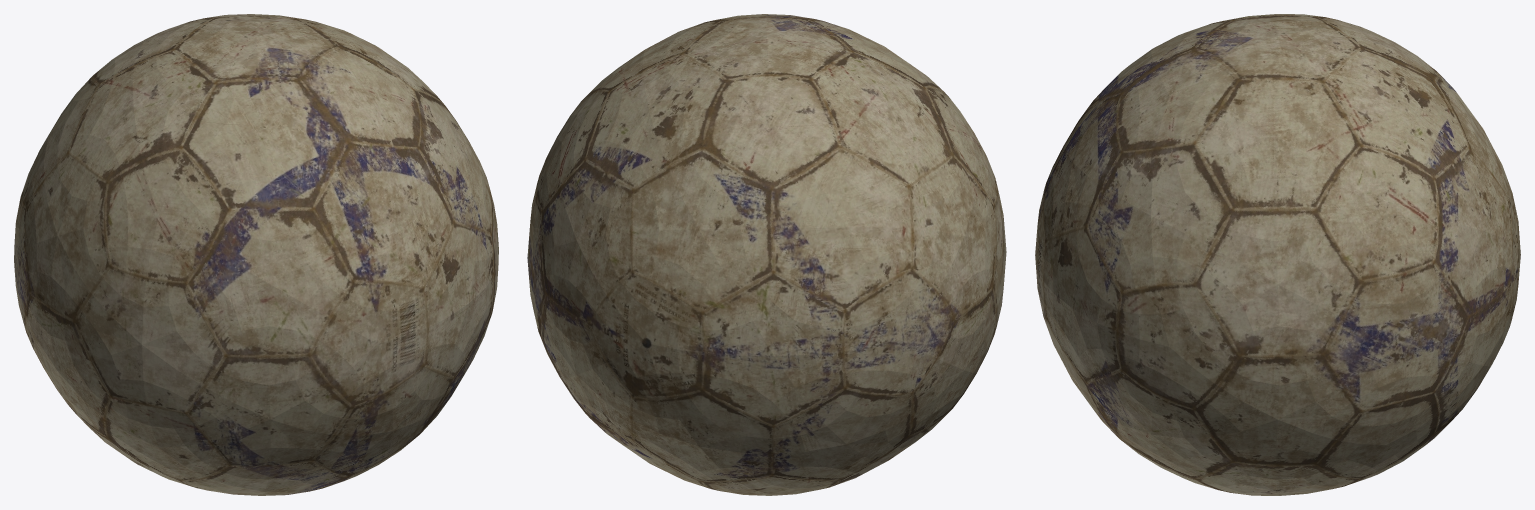
Rendered from toy_football.obj.
3 renders of one model, left to right at view 1: azimuth 30°, elevation 25°; view 2: azimuth 150°, elevation 25°; view 3: azimuth 270°, elevation 25°, orthographic.
Visible parts, largest first — view 1: Football_01_inflated; view 2: Football_01_inflated; view 3: Football_01_inflated.
Boxes of the visible parts, <box> form: Football_01_inflated: <box>14,14,498,495</box>; Football_01_inflated: <box>527,14,1006,495</box>; Football_01_inflated: <box>1035,14,1520,495</box>.
Bounding box in the file's own units: 0.1589 × 0.1591 × 0.16.
1 material, 1 textured.
